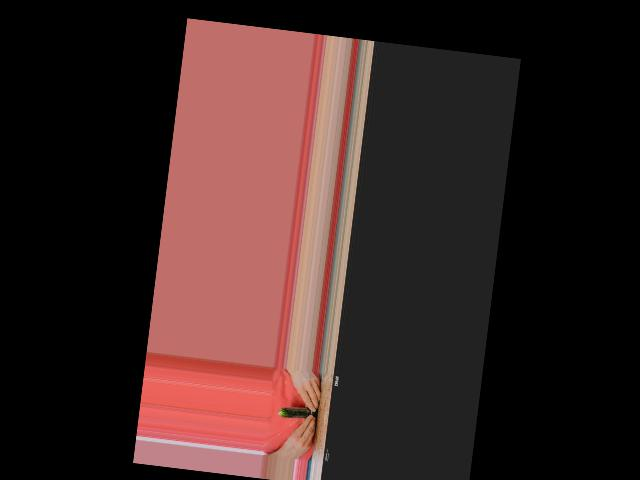cucumber: (278, 404, 318, 422)
